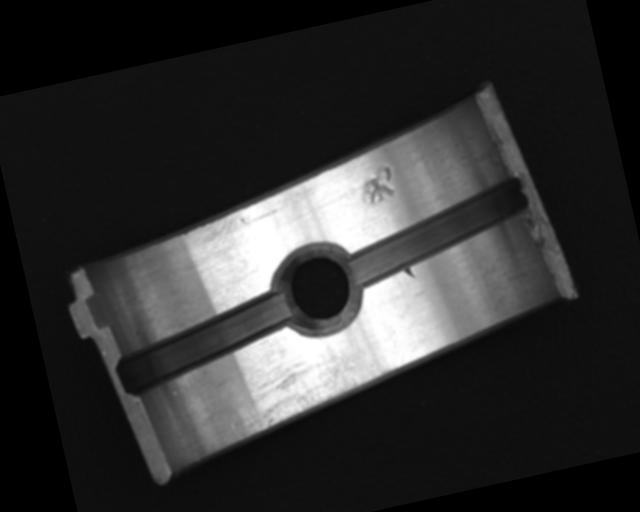bruise: (355, 163, 399, 207), (402, 265, 417, 282)
gap: (338, 177, 540, 289), (107, 286, 300, 396)
hole: (267, 237, 369, 342)
scratch: (217, 330, 396, 444)
